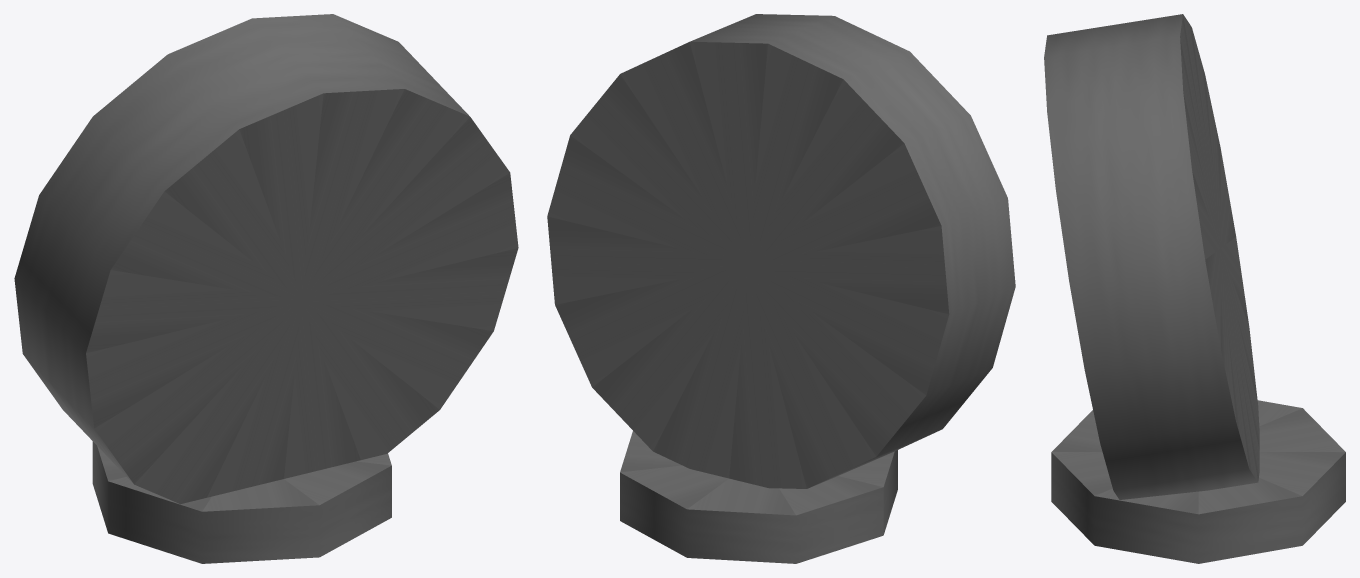
File: mastarmcurve_6x2_c6_down.obj
3 views of the same model, side by side, from view 1: azimuth 30°, elevation 25°; view 2: azimuth 150°, elevation 25°; view 3: azimuth 270°, elevation 25° (orthographic). The views are drawn at different scales.
Parts seen in each view (by area): view 1: mastarm_6x2_c6_down; view 2: mastarm_6x2_c6_down; view 3: mastarm_6x2_c6_down.
Boxes of the visible parts, bbox=[...] form: mastarm_6x2_c6_down: bbox=[14, 14, 518, 563]; mastarm_6x2_c6_down: bbox=[547, 14, 1015, 563]; mastarm_6x2_c6_down: bbox=[1044, 14, 1345, 563].
Bounding box in the file's own units: 0.6451 × 0.6976 × 0.41.
